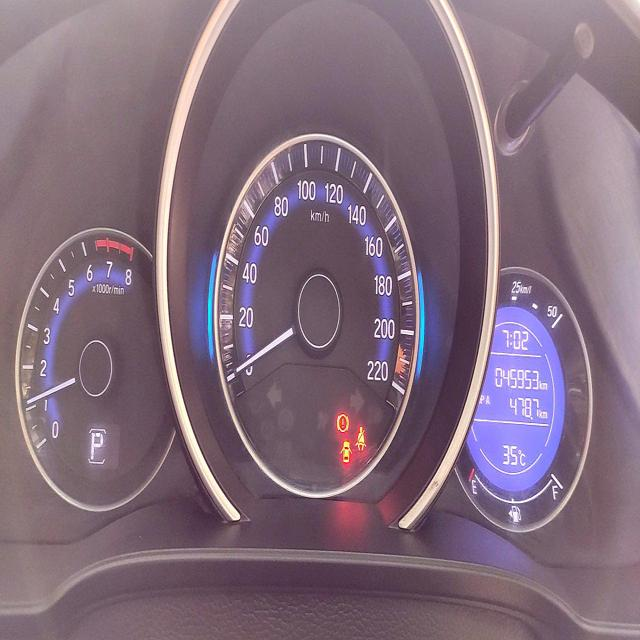odometer: (492, 365, 543, 393)
